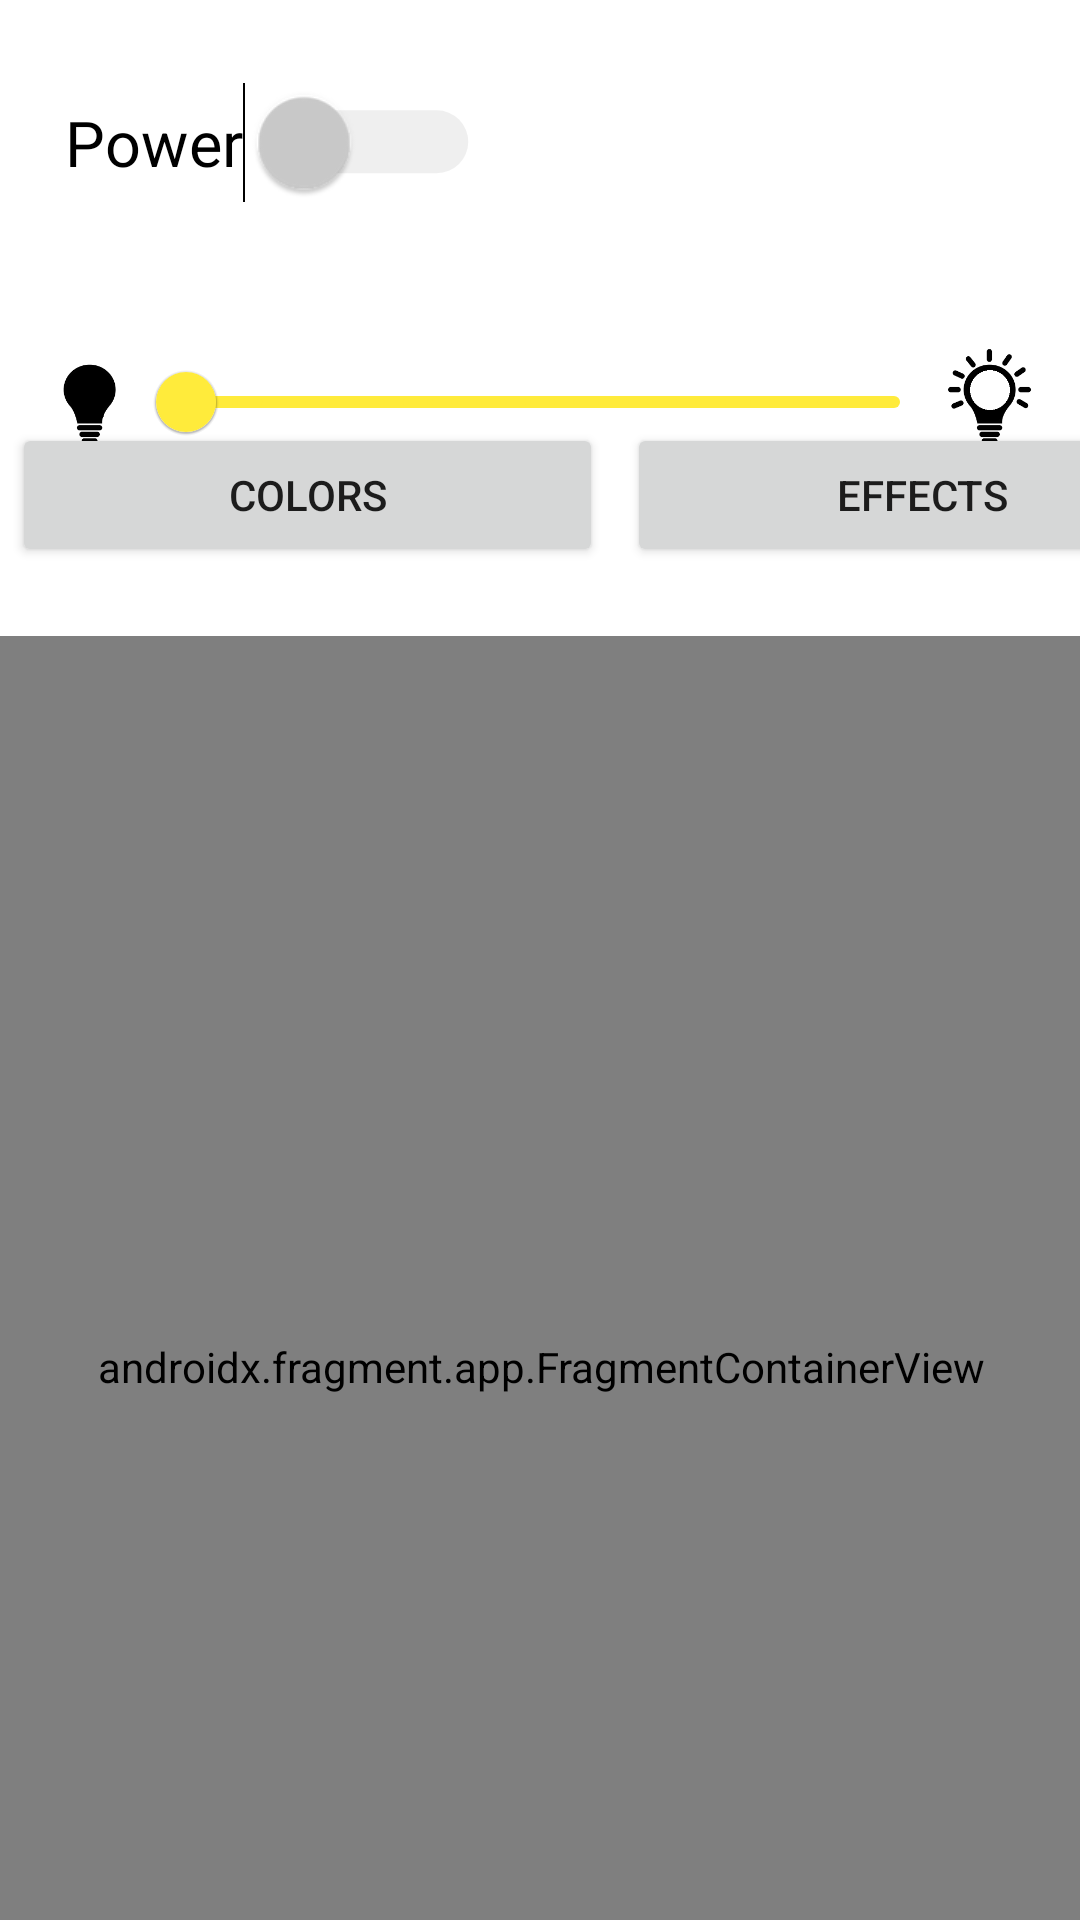

Icon click points for this 1080*1920 phone screenshot, format (x,y):
ledoff: (89,400)
ledon: (989,393)
